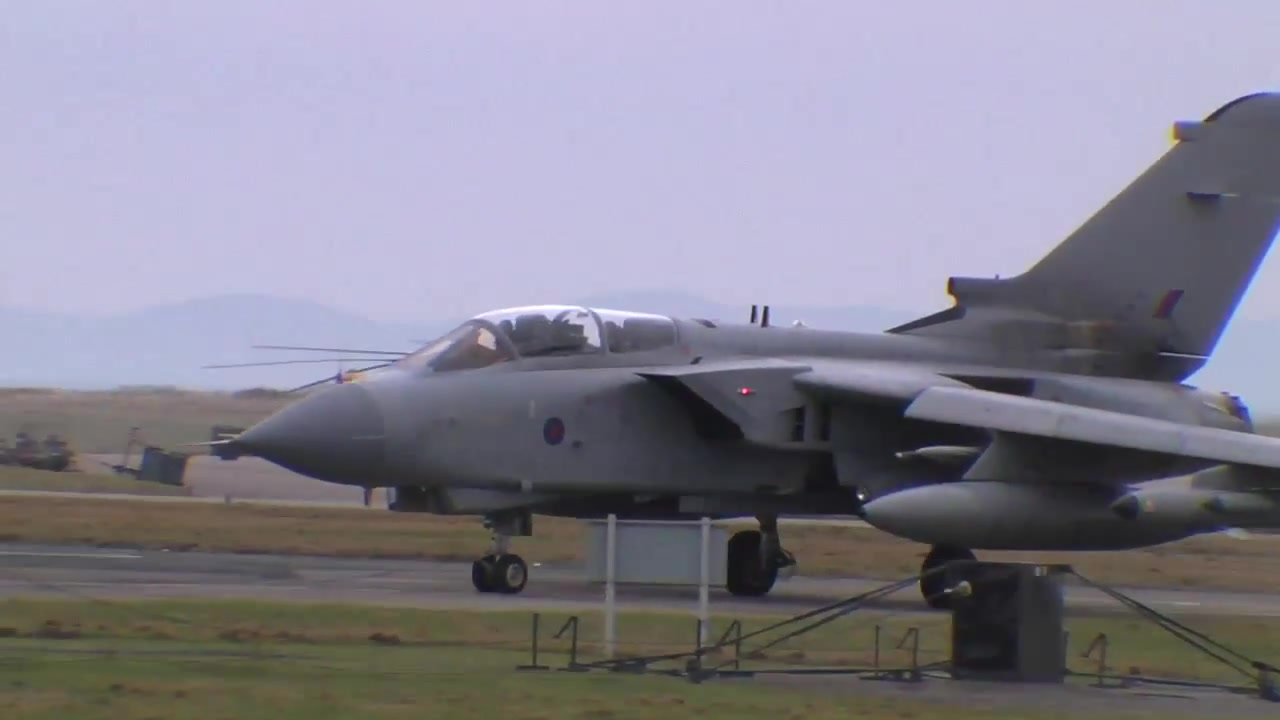aeroplane: (181, 92, 1280, 613)
